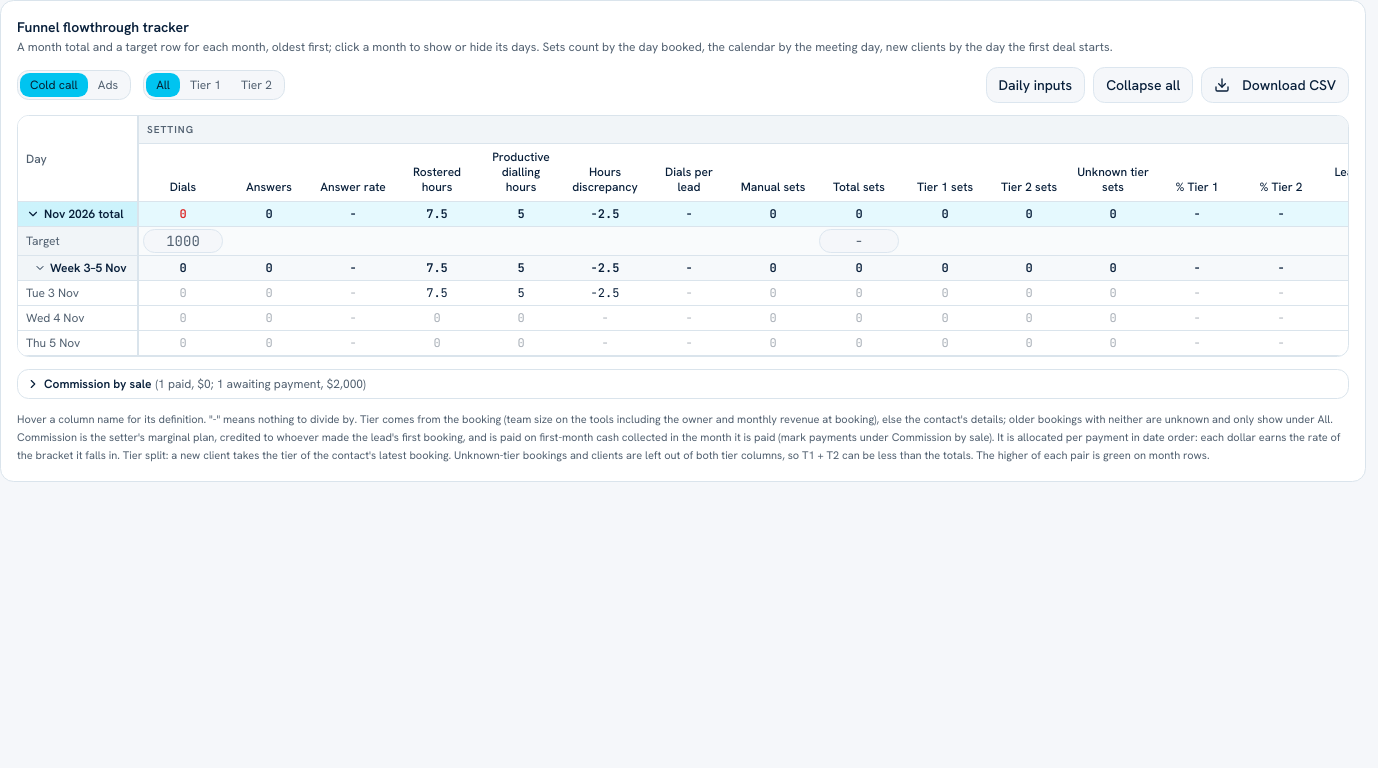
Test: FunnelTracker › lists paid cash under Commission by sale and records a payment for a deal awaiting payment
The image size is (1378, 768).
Later steps or results of the test are not shown.
Click the button "Commission by sale (1 paid, $0; 1 awaiting payment, $2,000)" at (98, 384), box top-left (18, 370), bottom-right (1348, 398)
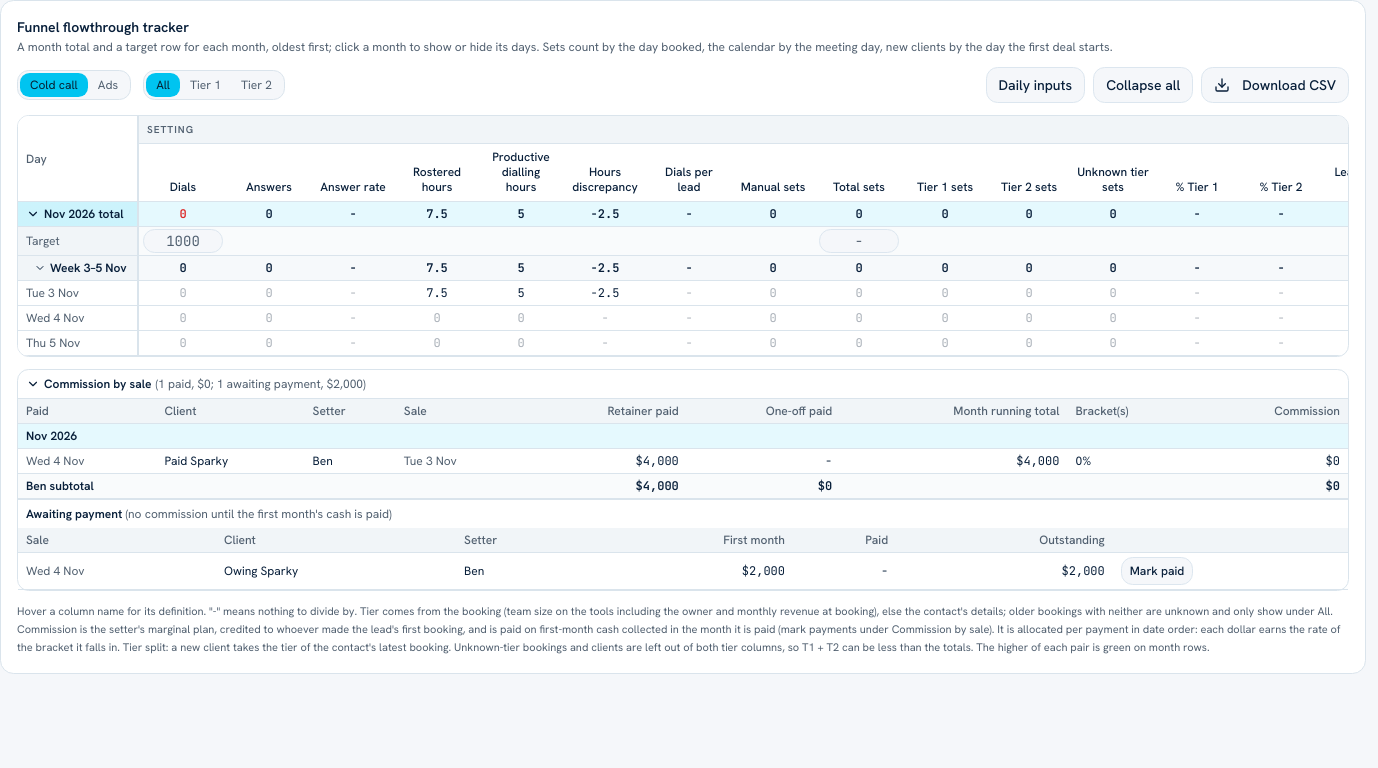
Check: the text "Paid Sparky" is shown, box top-left (156, 449), bottom-right (305, 474)
Click the button "Mark paid" at (1157, 571), box top-left (1121, 557), bottom-right (1193, 585)
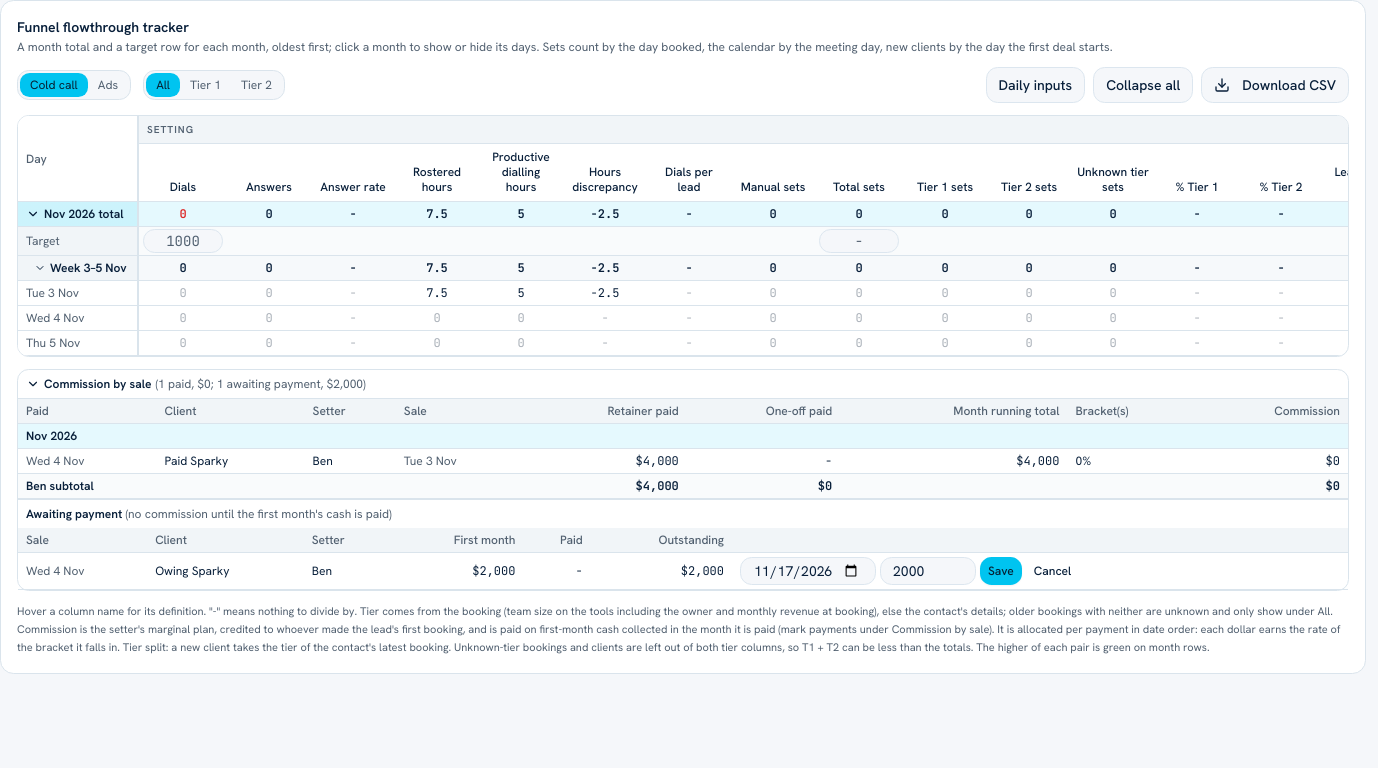
Check: the number field named "Amount paid" holds "2000", box top-left (880, 557), bottom-right (976, 585)
